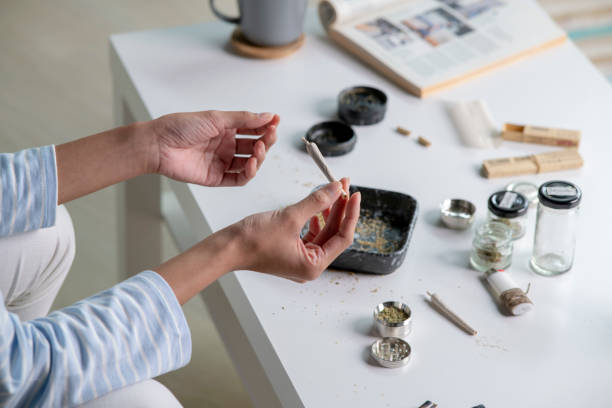cigarette: (425, 288, 479, 337), (305, 139, 348, 200)
